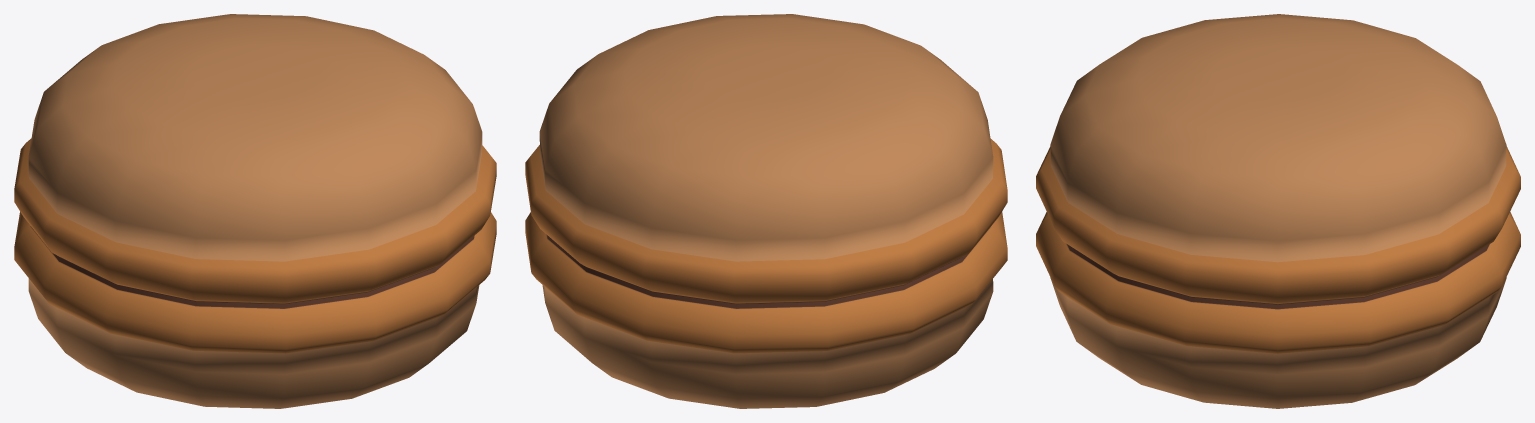
File: macaron_1.fbx
3 views of the same model, side by side, from view 1: azimuth 30°, elevation 25°; view 2: azimuth 150°, elevation 25°; view 3: azimuth 270°, elevation 25° (orthographic).
Visible parts, largest first — view 1: 円.004; view 2: 円.004; view 3: 円.004.
Part boxes in pixels (left/top/right/bottom): 円.004: left=14, top=14, right=496, bottom=408; 円.004: left=525, top=14, right=1007, bottom=408; 円.004: left=1036, top=14, right=1520, bottom=408.
Bounding box in the file's own units: 16.04 × 10.07 × 16.04.
